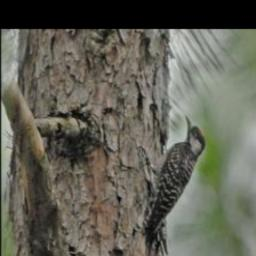Woodpecker: (141, 109, 206, 249)
